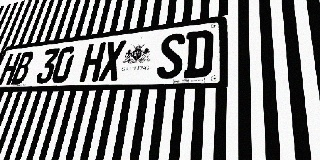0: (50, 46, 77, 83)
3: (34, 48, 60, 84)
B: (10, 51, 35, 85)
D: (183, 29, 214, 78)
H: (79, 42, 106, 82), (0, 52, 22, 85)
S: (156, 32, 186, 79)
X: (98, 40, 126, 81)
